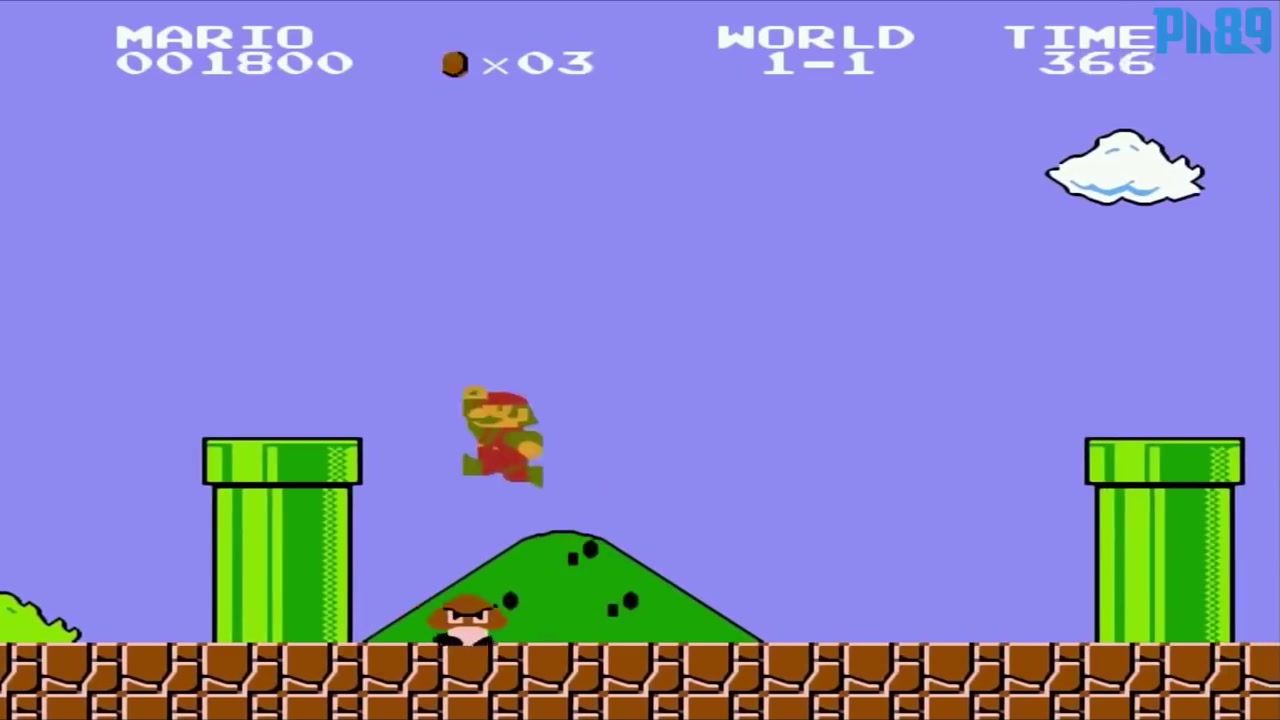mario: (450, 374, 591, 495)
